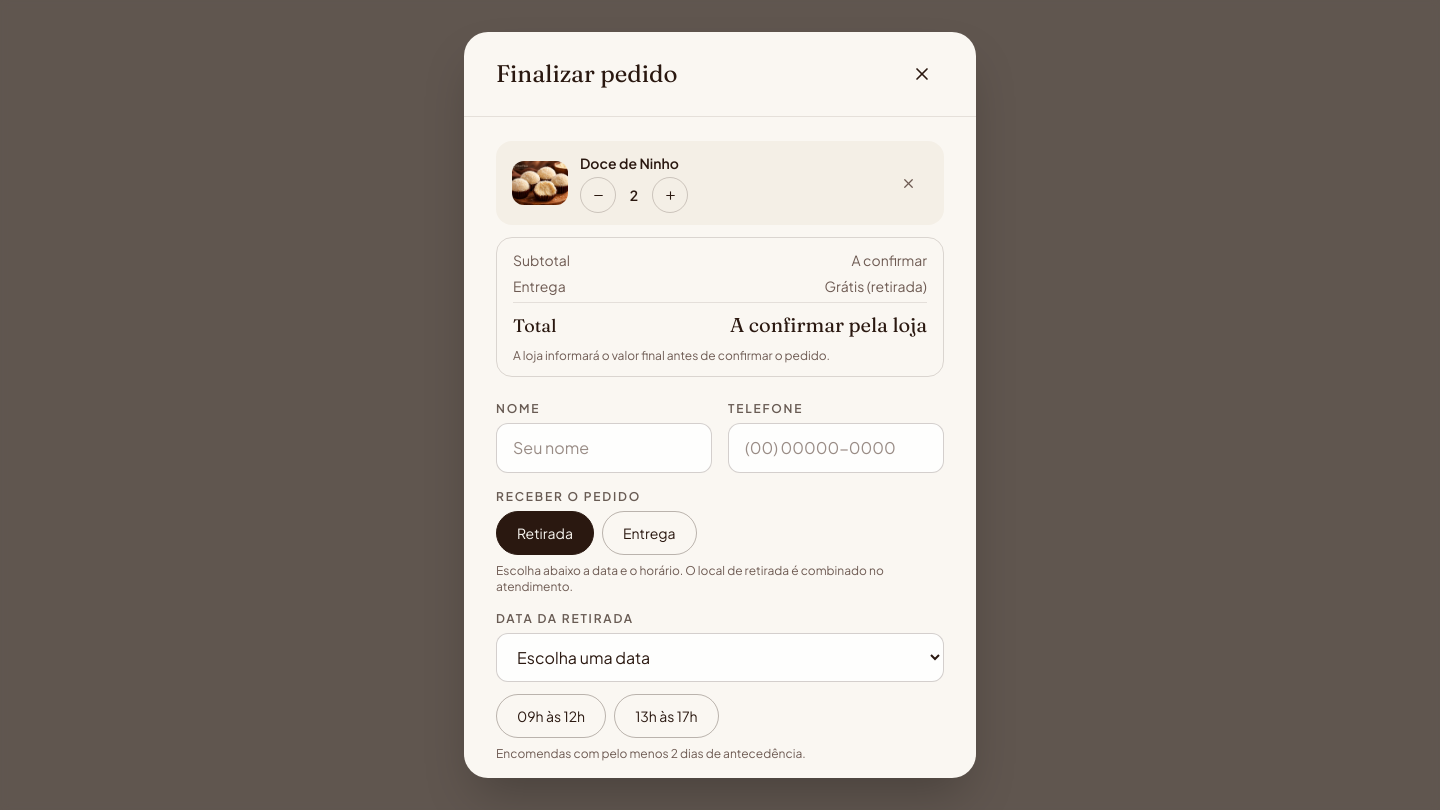
Scenario: revisa, envia data/horário e SEM preços/totais, mostra código e limpa o carrinho
This screenshot has width=1440, height=810.
Expected: the dialog with test id "order-modal" is shown, [464,32,976,778]
Type "Maria Silva" into the field with test id "order-input-nome" at point(604, 448), box [496,423,712,473]
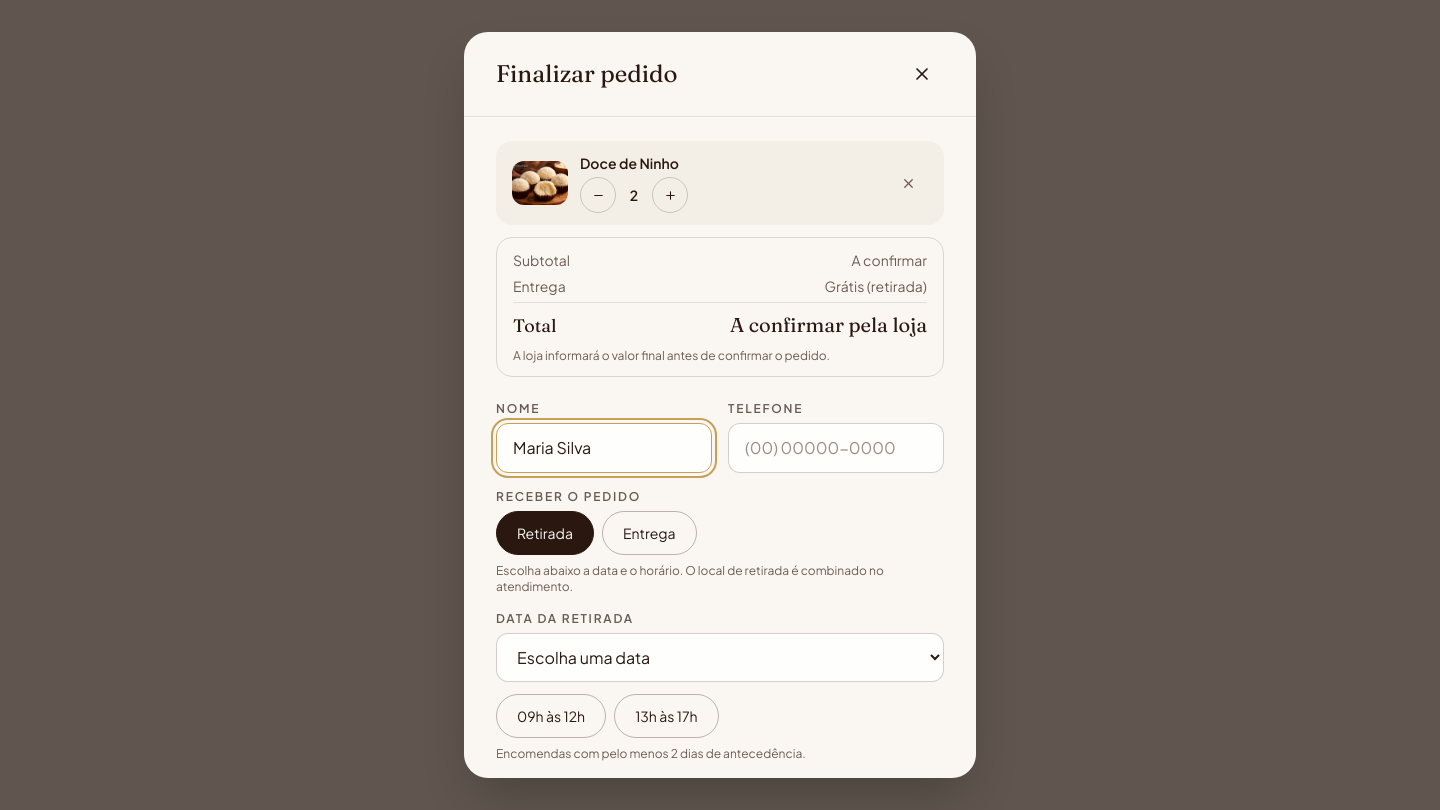
Type "11912345678" into the field with test id "order-input-telefone" at point(836, 448), box [728,423,944,473]
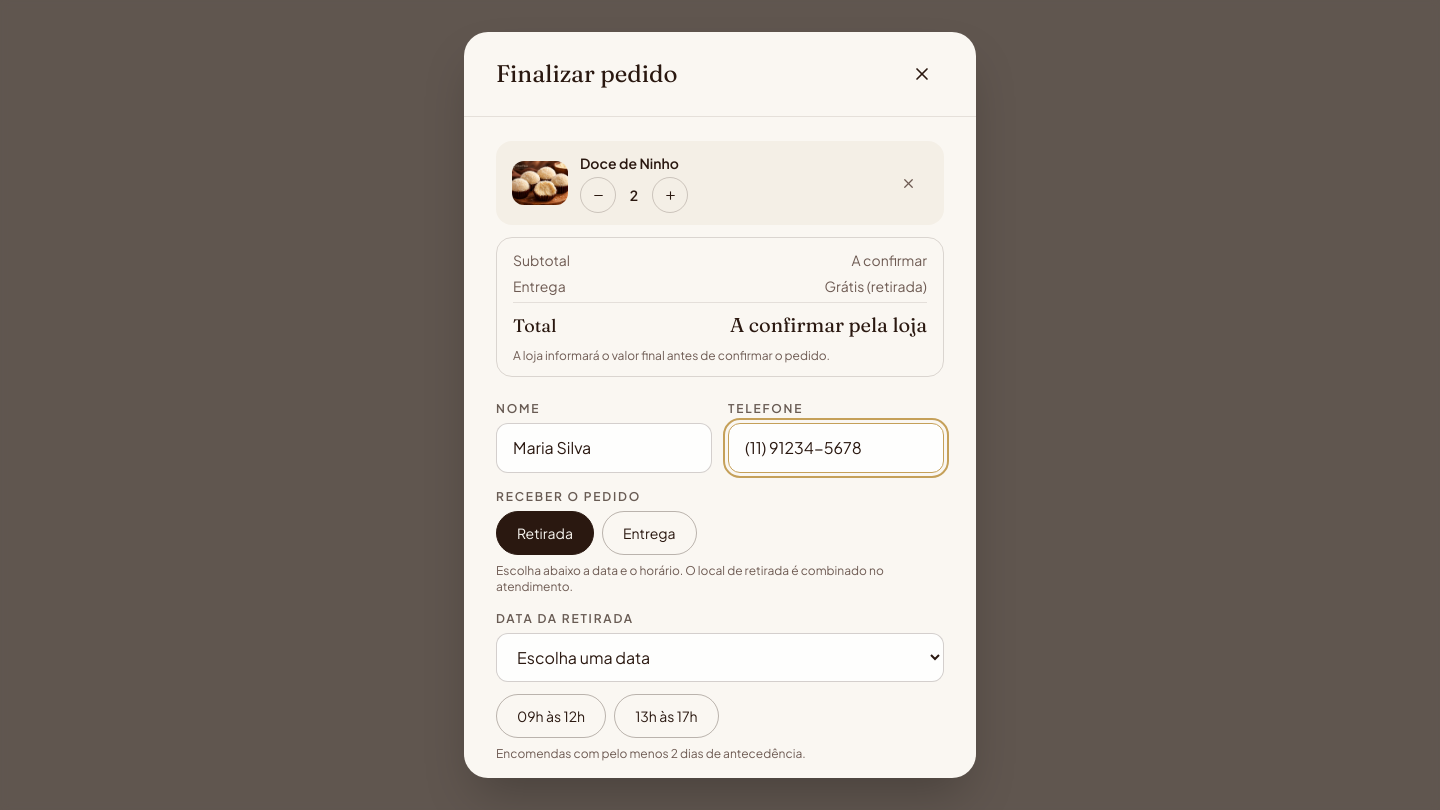
Select "terça-feira, 13/10" in the dropdown with test id "order-input-data" at point(720, 658), box [496,633,944,682]
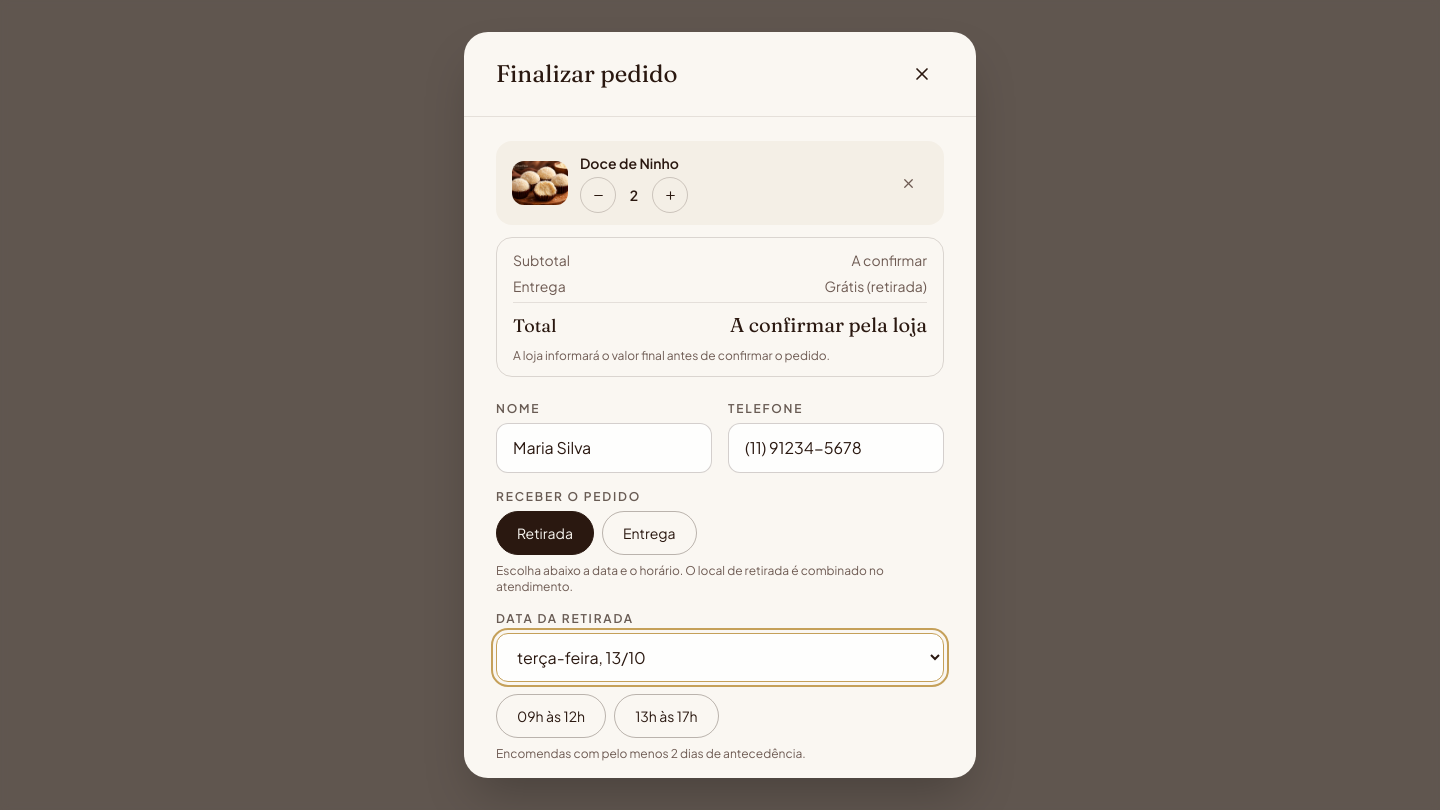
Click the button "09h às 12h" at point(551, 716), box [496,694,606,738]
(page scrolled)
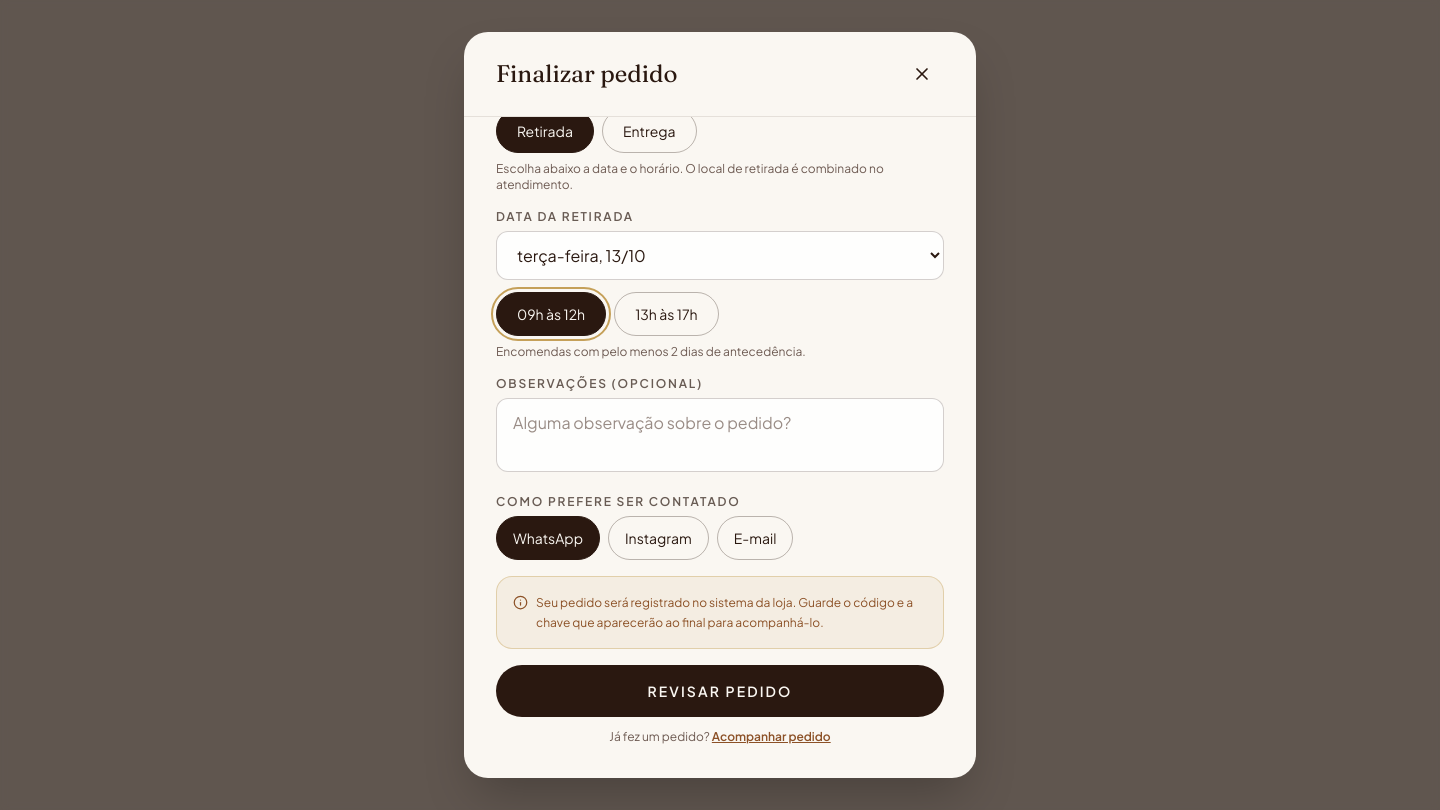
Click the button with test id "order-review-btn" at point(720, 691), box [496,665,944,717]
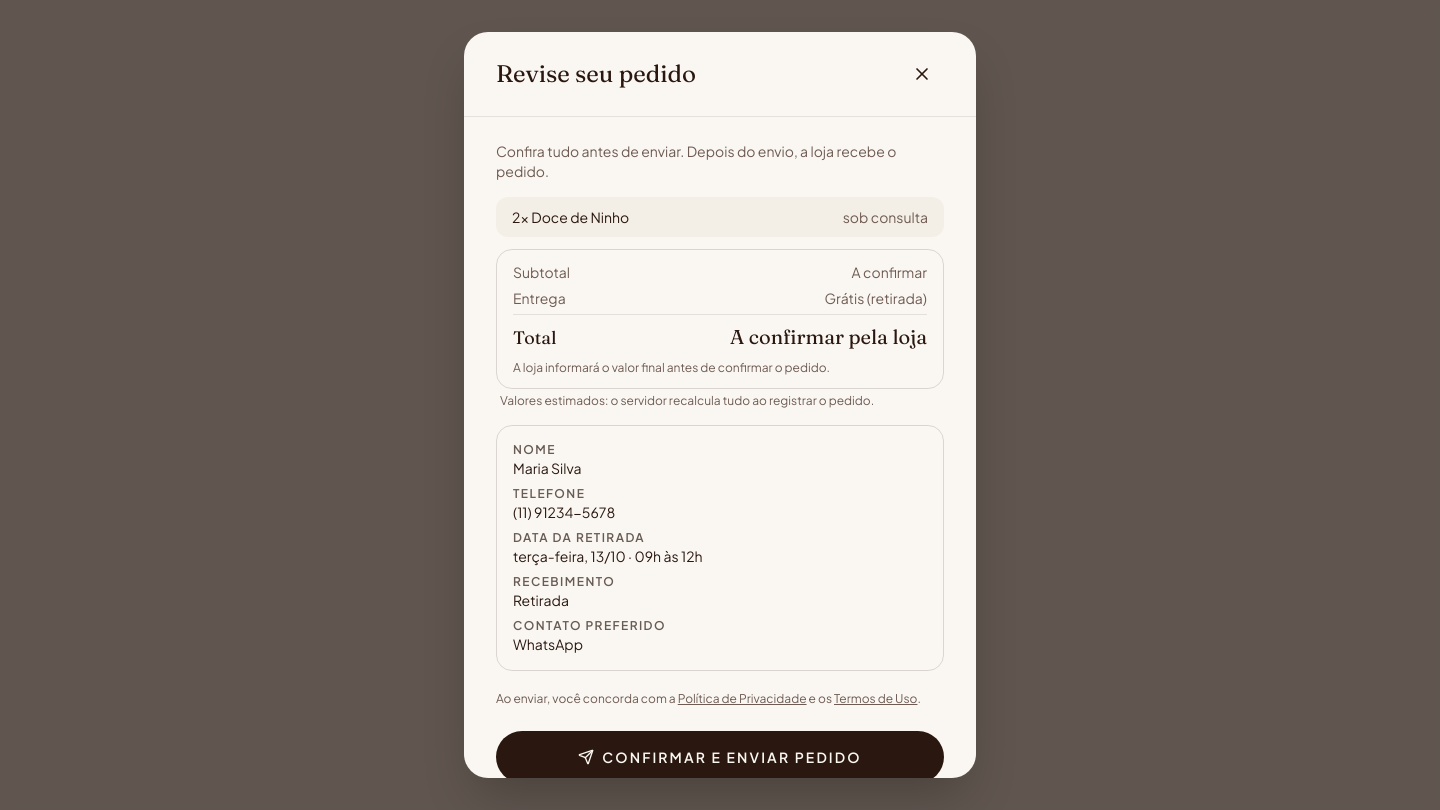
Expected: the element with test id "order-review" is shown, [496,141,944,778]
Expected: the text "Maria Silva" is shown, [513,459,582,477]
Expected: the text with test id "order-review-schedule" reads "terça-feira, 13/10 · 09h às 12h", [513,547,703,565]
Click the button with test id "order-confirm-btn" at point(720, 757), box [496,731,944,783]
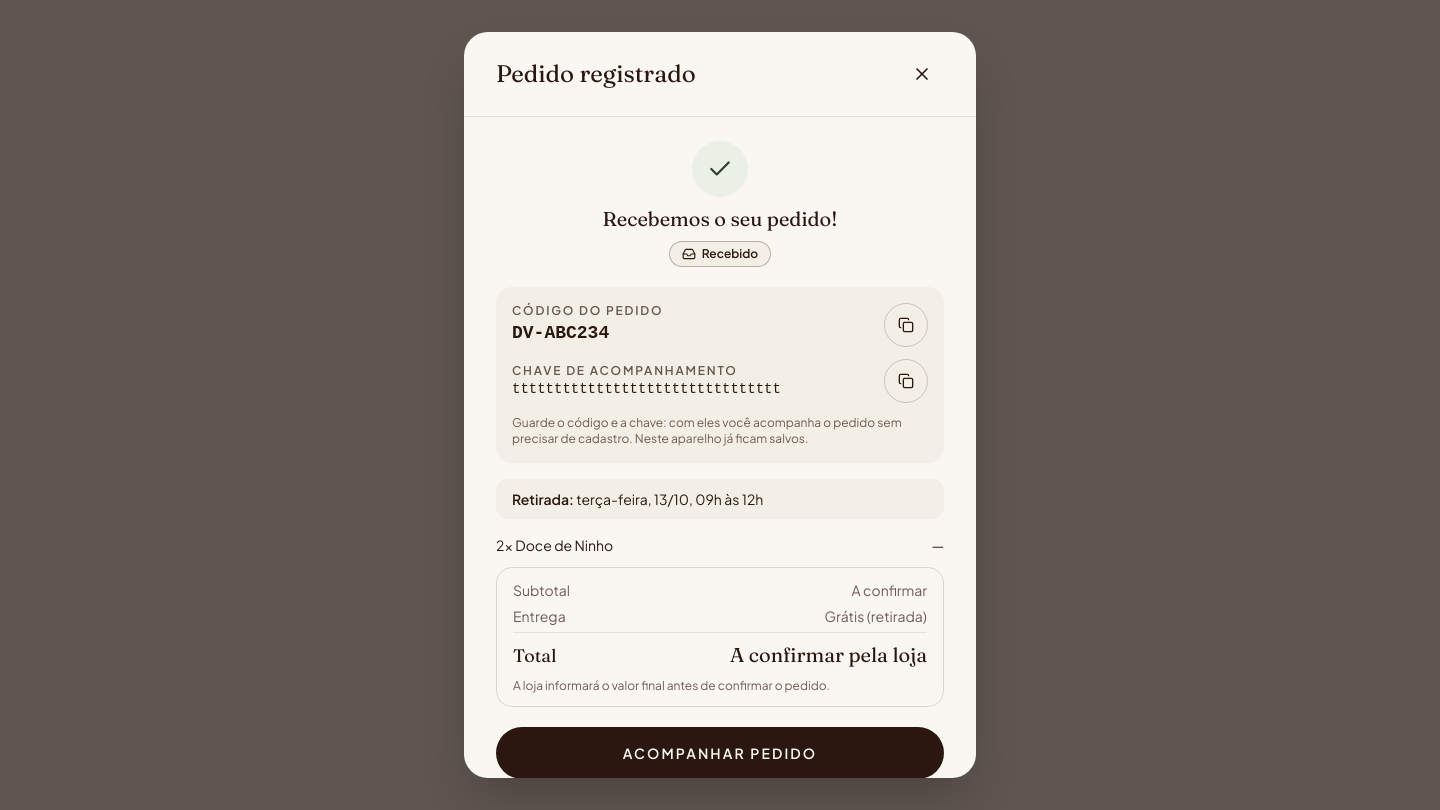
Expected: the text with test id "order-code" reads "DV-ABC234", [512,323,609,343]
Expected: the element with test id "order-success-schedule" reads "Retirada: terça-feira, 13/10, 09h às 12h", [496,479,944,519]
